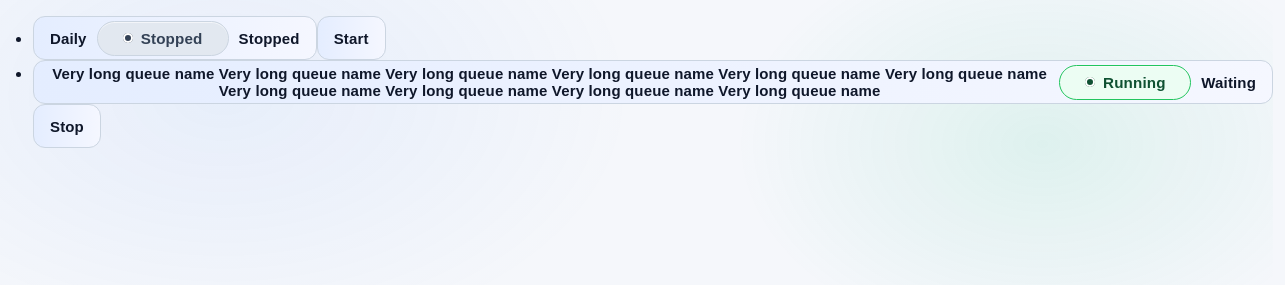
Test: PhoneQueuesView list › starts a queue
Click the button "Start": (351, 38) [317,16,386,60]
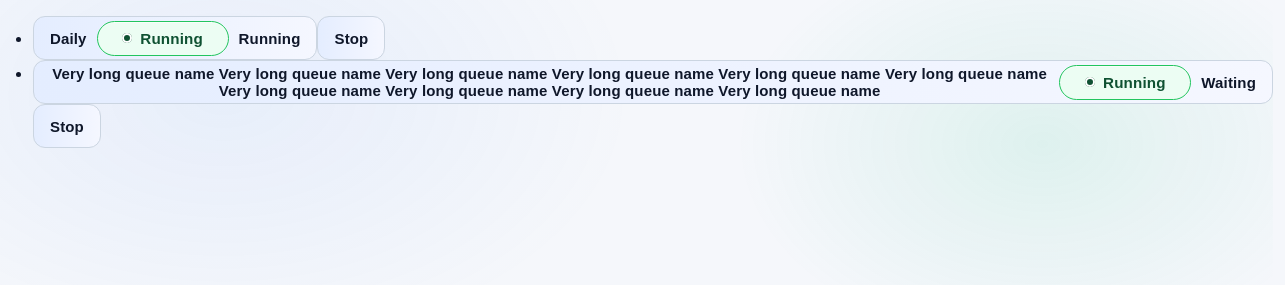
Now the 1st button "Stop" is shown, box [318,16,385,60]
